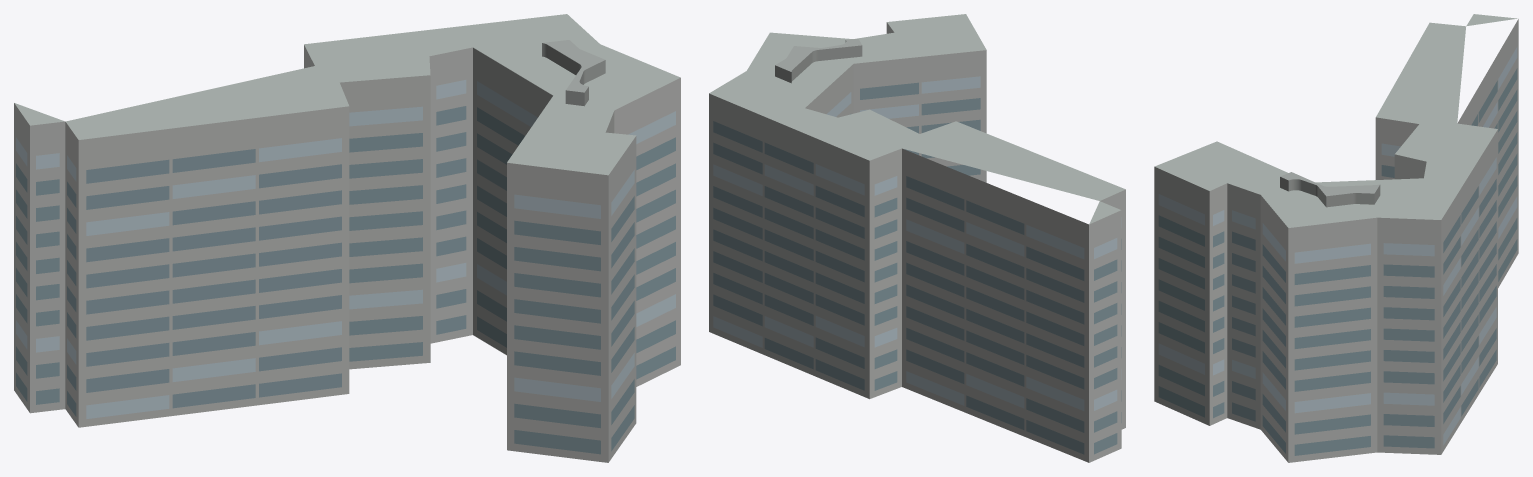
File: fallback-dmc-parkview-xi-extension-201.glb
The picture shows the model from 3 angles, left to right: view 1: azimuth 30°, elevation 25°; view 2: azimuth 150°, elevation 25°; view 3: azimuth 270°, elevation 25°; orthographic projection. The views are drawn at different scales.
Visible parts, largest first — view 1: fallback-dmc-parkview-xi-extension-201; view 2: fallback-dmc-parkview-xi-extension-201; view 3: fallback-dmc-parkview-xi-extension-201.
Part boxes in pixels (x1,y1,x2,y2): fallback-dmc-parkview-xi-extension-201: [14, 14, 680, 462]; fallback-dmc-parkview-xi-extension-201: [709, 14, 1125, 462]; fallback-dmc-parkview-xi-extension-201: [1154, 14, 1518, 462].
Size of the model in its own units: 65.36 by 35 by 46.98.
